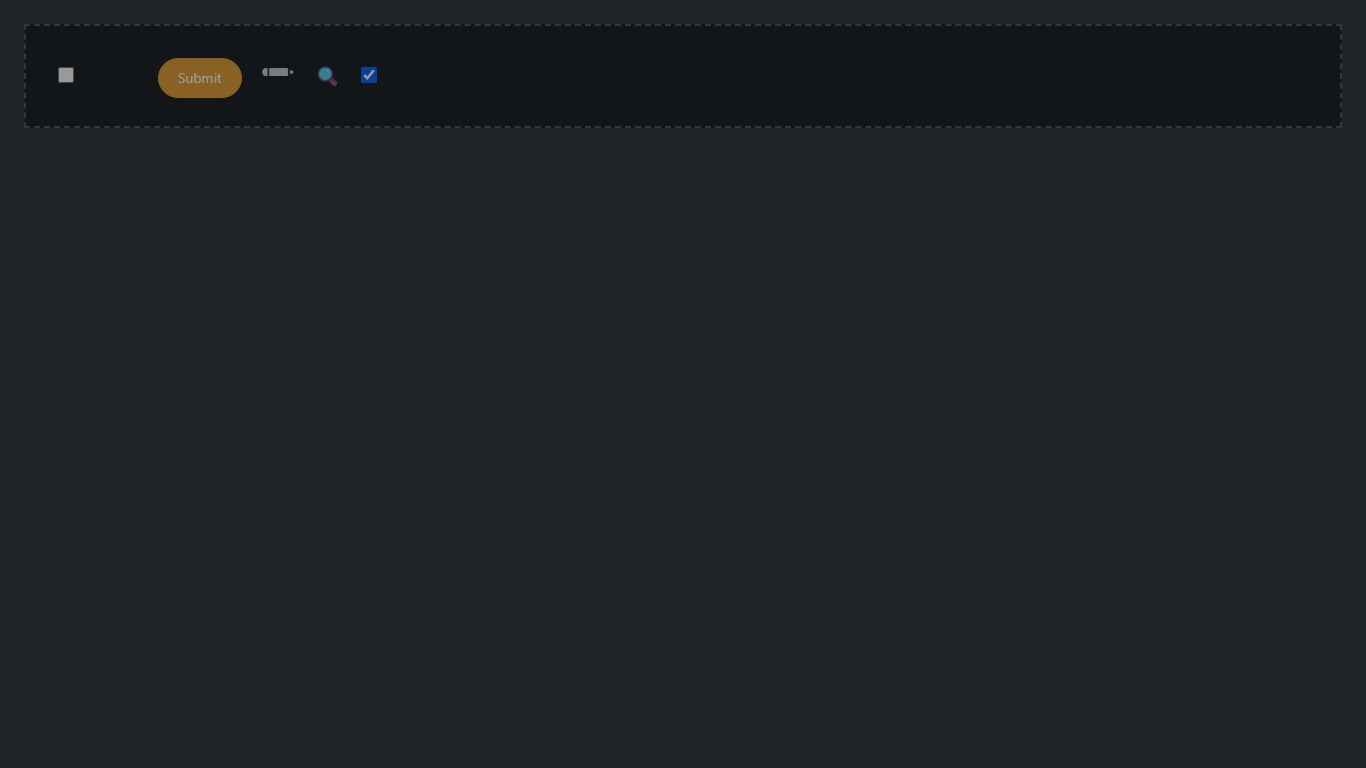button: (158, 58, 242, 98)
checkbox: (58, 67, 74, 83), (361, 67, 377, 83)
icon: (82, 65, 138, 84), (262, 54, 294, 86), (385, 65, 431, 84), (314, 65, 341, 85)
modal: (24, 24, 1342, 128)
radio: (58, 65, 138, 84), (361, 65, 431, 84)
